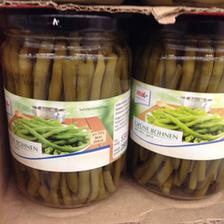Bohnen: (2, 11, 130, 209), (135, 10, 223, 198)
